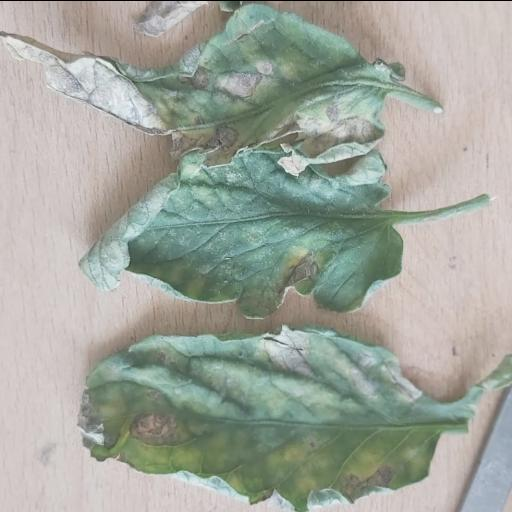Early Blight: (76, 320, 438, 512), (80, 149, 404, 314)
